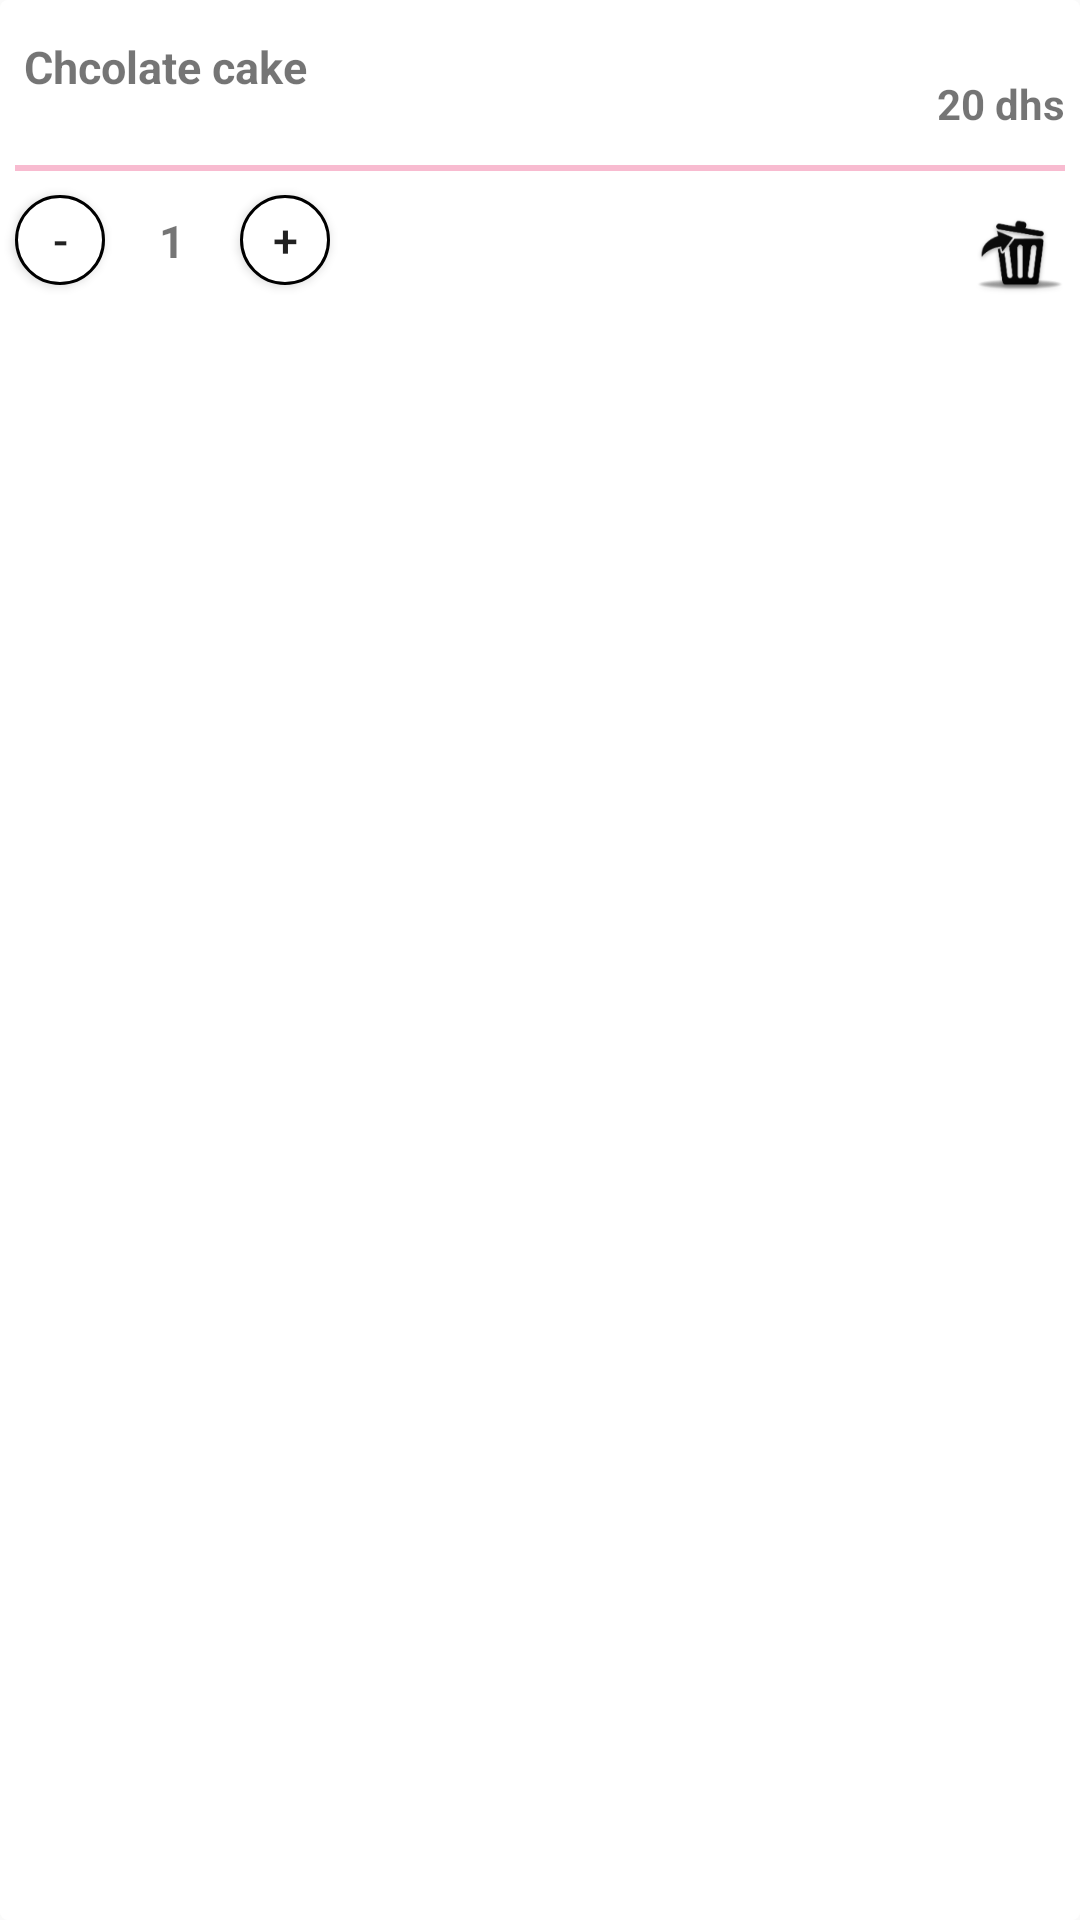

Icon bounding boxes for this 1080px×1920px phone screenshot, format (x1, y1, x2, y2):
delete: (980, 220, 1060, 290)
